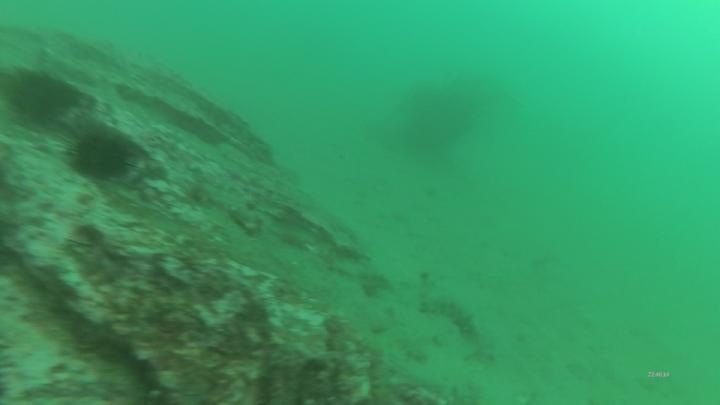echinus: (8, 70, 80, 129), (63, 129, 138, 184)
holothurian: (419, 295, 482, 343)
